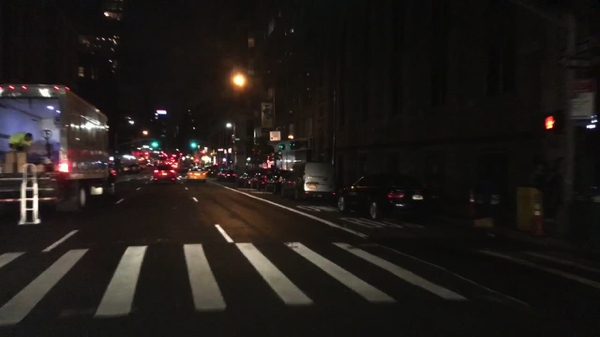car: (336, 169, 438, 221), (279, 161, 341, 202), (262, 170, 292, 194), (249, 168, 280, 190), (154, 164, 175, 182), (239, 170, 258, 189), (186, 168, 207, 183), (216, 169, 236, 182), (130, 164, 141, 174), (206, 168, 216, 178), (120, 166, 130, 174), (140, 164, 147, 169)
person: (8, 132, 33, 159)
traffic light: (543, 114, 559, 131), (191, 140, 196, 148), (153, 140, 157, 147), (235, 138, 240, 140)
traffic sign: (567, 80, 594, 119), (270, 132, 280, 141)
truck: (1, 85, 117, 213)
